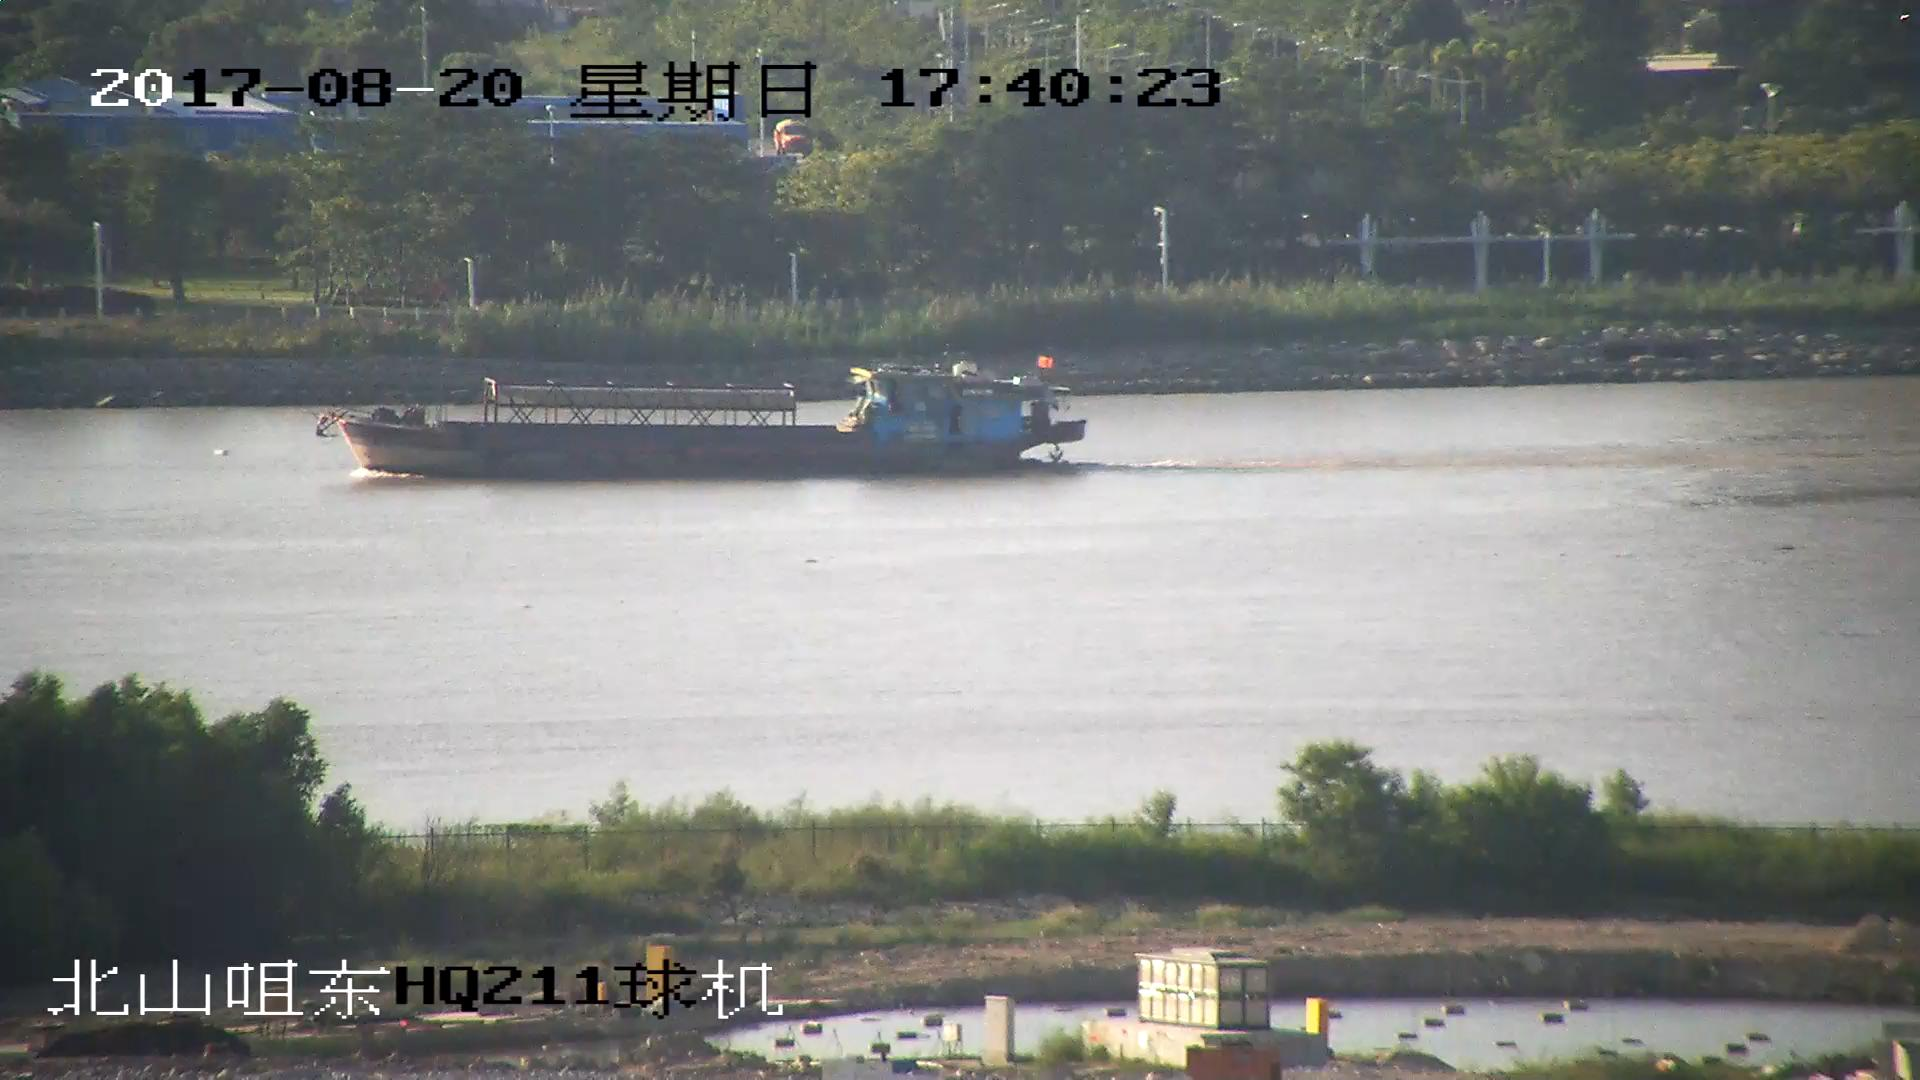fishing boat: (319, 359, 1087, 482)
